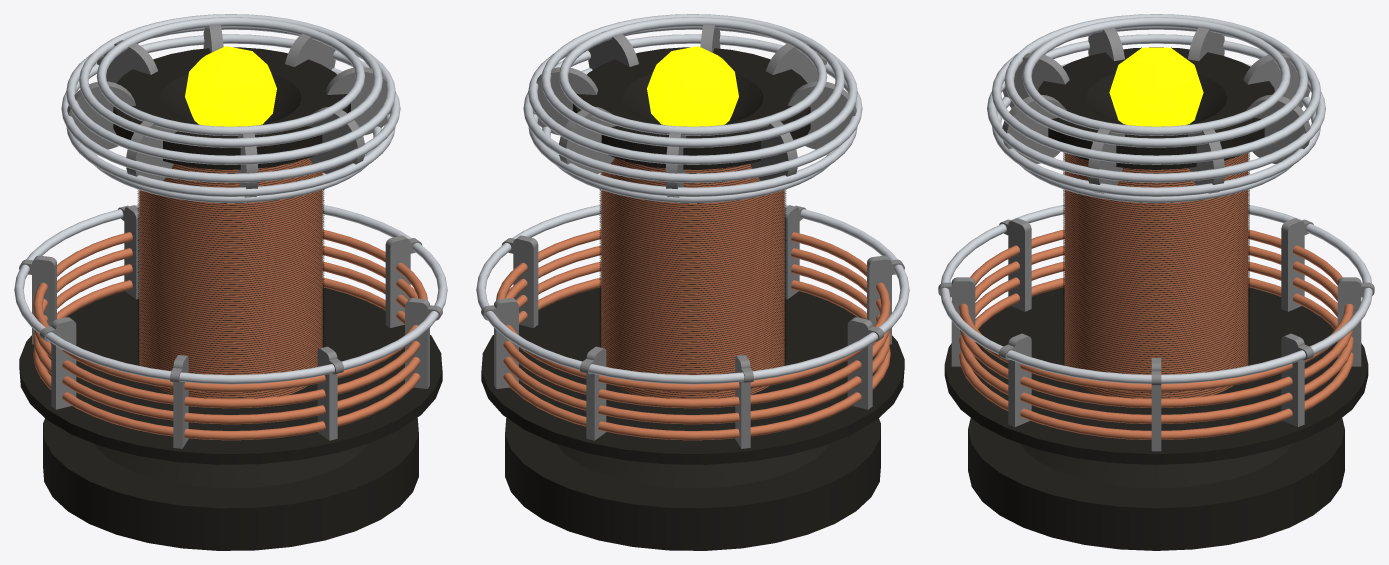
File: zap_coil.fbx
The picture shows the model from 3 angles, left to right: view 1: azimuth 30°, elevation 25°; view 2: azimuth 150°, elevation 25°; view 3: azimuth 270°, elevation 25°; orthographic projection.
Parts seen in each view (by area): view 1: Circle, Torus, Circle.001, Cube.002, Cylinder.002, Torus.002, Icosphere, Torus.005, Torus.004, Torus.006, Torus.011, Torus.010 (+1 smaller); view 2: Circle, Torus, Circle.001, Cube.002, Cylinder.002, Torus.002, Icosphere, Torus.005, Torus.004, Torus.006, Torus.011, Torus.010 (+1 smaller); view 3: Circle, Torus, Circle.001, Cube.002, Cylinder.002, Torus.002, Icosphere, Torus.005, Torus.004, Torus.006, Torus.011, Torus.010 (+1 smaller).
Part boxes in pixels (x1,y1,x2,y2): Circle: (19,47,442,550); Torus: (33,229,427,440); Circle.001: (137,158,324,398); Cube.002: (19,205,442,448); Cylinder.002: (67,24,390,197); Torus.002: (14,205,447,384); Icosphere: (185,46,276,126); Torus.005: (96,17,365,135); Torus.004: (61,34,400,182); Torus.006: (79,14,382,147); Torus.011: (66,26,395,164); Torus.010: (66,68,395,196); Circle: (481,47,904,550); Torus: (496,229,890,440); Circle.001: (599,158,786,398); Cube.002: (481,205,904,448); Cylinder.002: (533,24,856,197); Torus.002: (476,205,909,384); Icosphere: (647,46,738,126); Torus.005: (558,17,827,135); Torus.004: (523,34,862,182); Torus.006: (541,14,844,147); Torus.011: (528,26,857,164); Torus.010: (528,68,857,196); Circle: (944,47,1368,550); Torus: (959,229,1353,439); Circle.001: (1063,152,1249,398); Cube.002: (938,218,1374,451); Cylinder.002: (1002,27,1310,193); Torus.002: (940,205,1372,383); Icosphere: (1109,47,1203,126); Torus.005: (1022,17,1290,135); Torus.004: (987,34,1325,182); Torus.006: (1004,14,1308,147); Torus.011: (991,26,1321,164); Torus.010: (992,63,1320,196).
Size of the model in its own units: 185 by 198 by 185.
